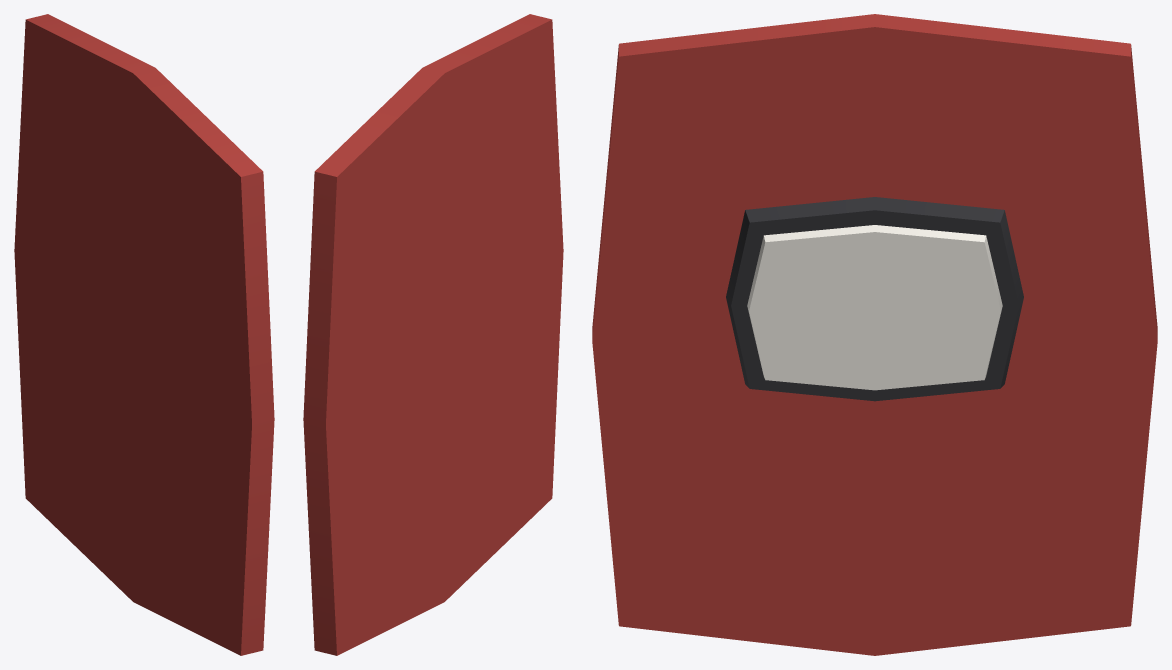
The model's file is plate_lod2.glb.
The picture shows the model from 3 angles, left to right: view 1: azimuth 30°, elevation 25°; view 2: azimuth 150°, elevation 25°; view 3: azimuth 270°, elevation 25°; orthographic projection. The views are drawn at different scales.
Parts seen in each view (by area): view 1: plate_lod2; view 2: plate_lod2; view 3: plate_lod2.
Boxes of the visible parts, box(x1,y1,x2,y2) form: plate_lod2: box(14, 14, 274, 655); plate_lod2: box(303, 14, 563, 655); plate_lod2: box(592, 14, 1157, 655).
Size of the model in its own units: 0.027 by 0.27 by 0.22.
